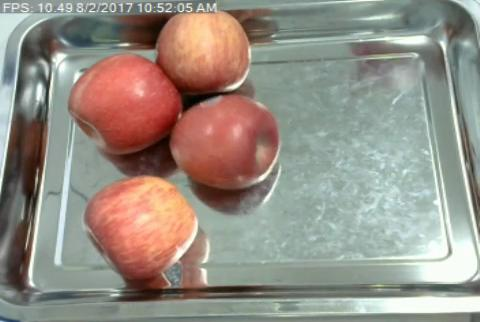apple: (84, 174, 199, 281), (68, 54, 182, 154), (173, 93, 280, 187), (157, 12, 253, 89)
